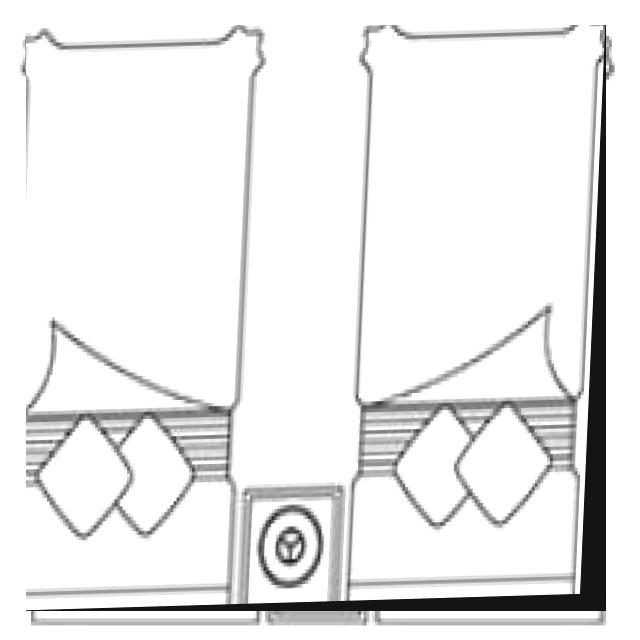bed: (26, 25, 606, 611)
